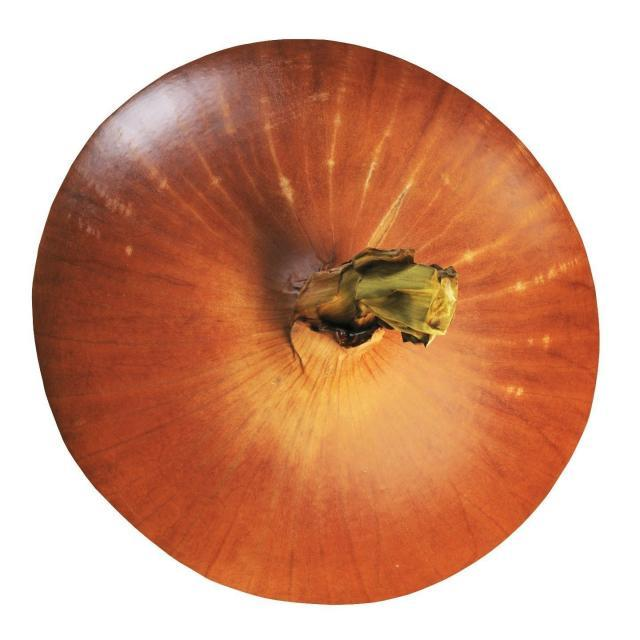onion: (30, 38, 601, 608)
